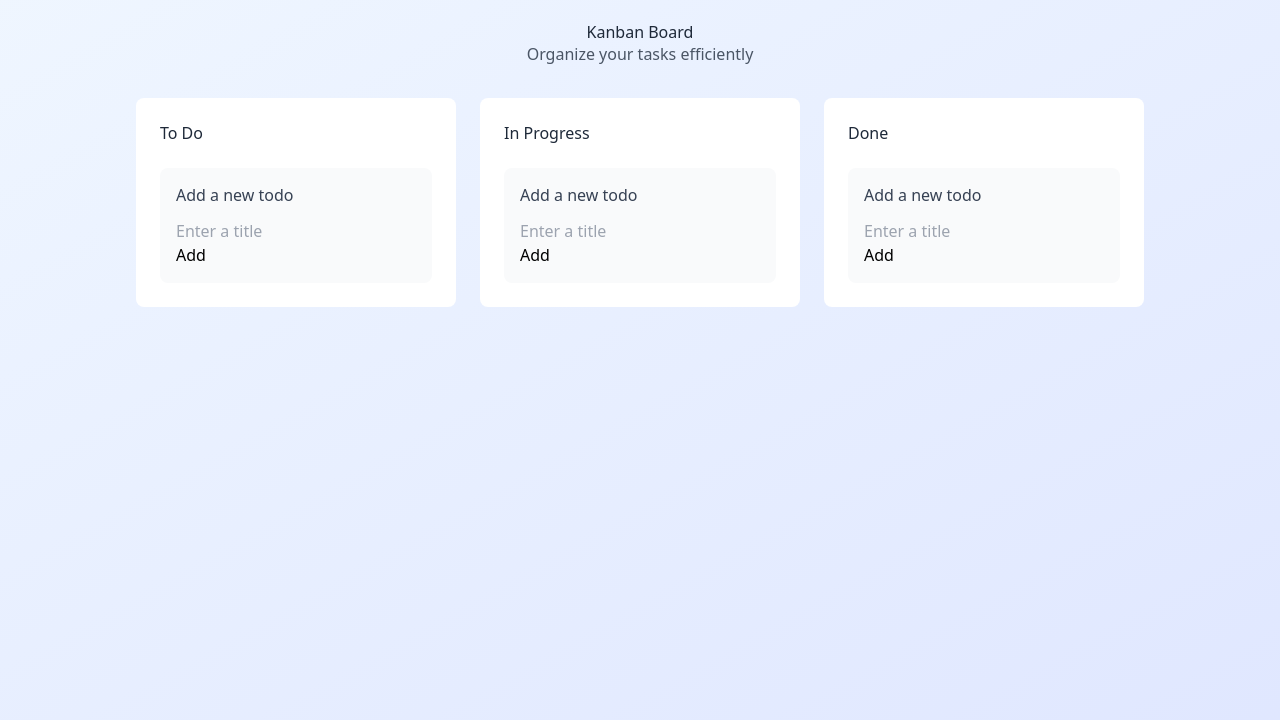
it: App › should delete a todo
The width and height of the screenshot is (1280, 720).
Type "Todo to Delete" into the field with placeholder "Enter a title" below "To Do" at point(296, 231), box [176,219,416,243]
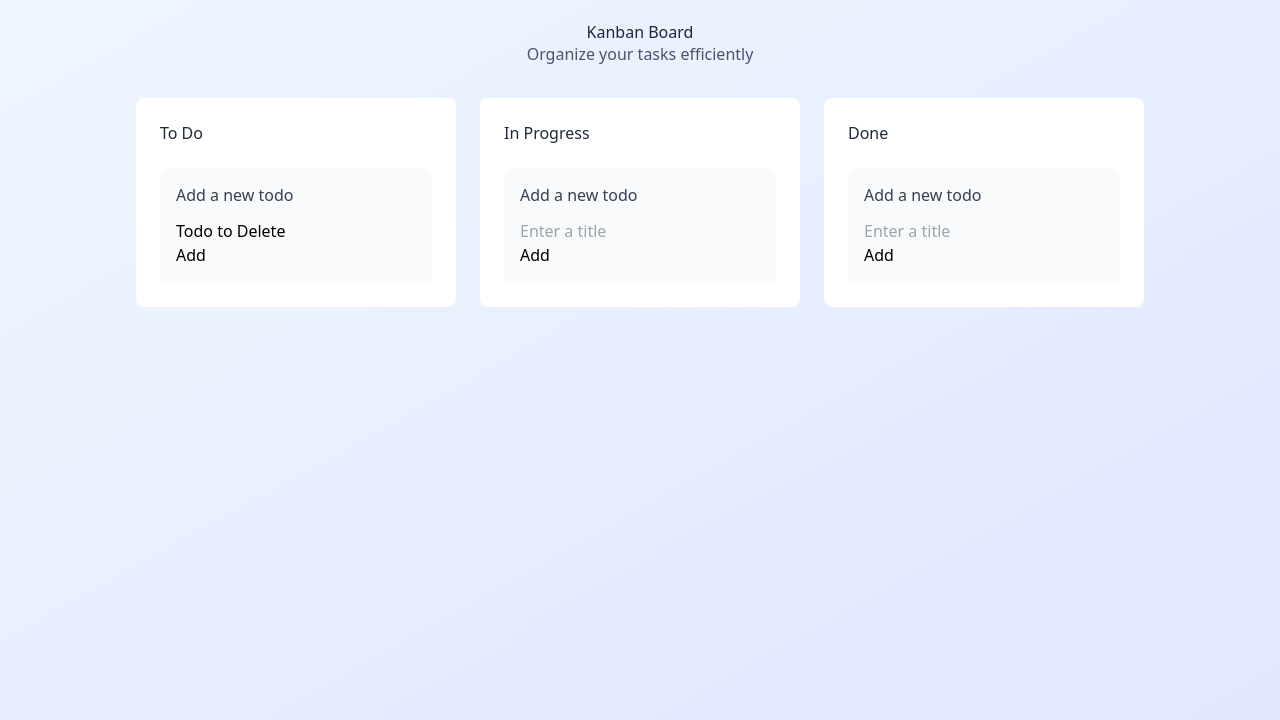
Click the button "Add" below "To Do" at point(191, 255), box [176,243,206,267]
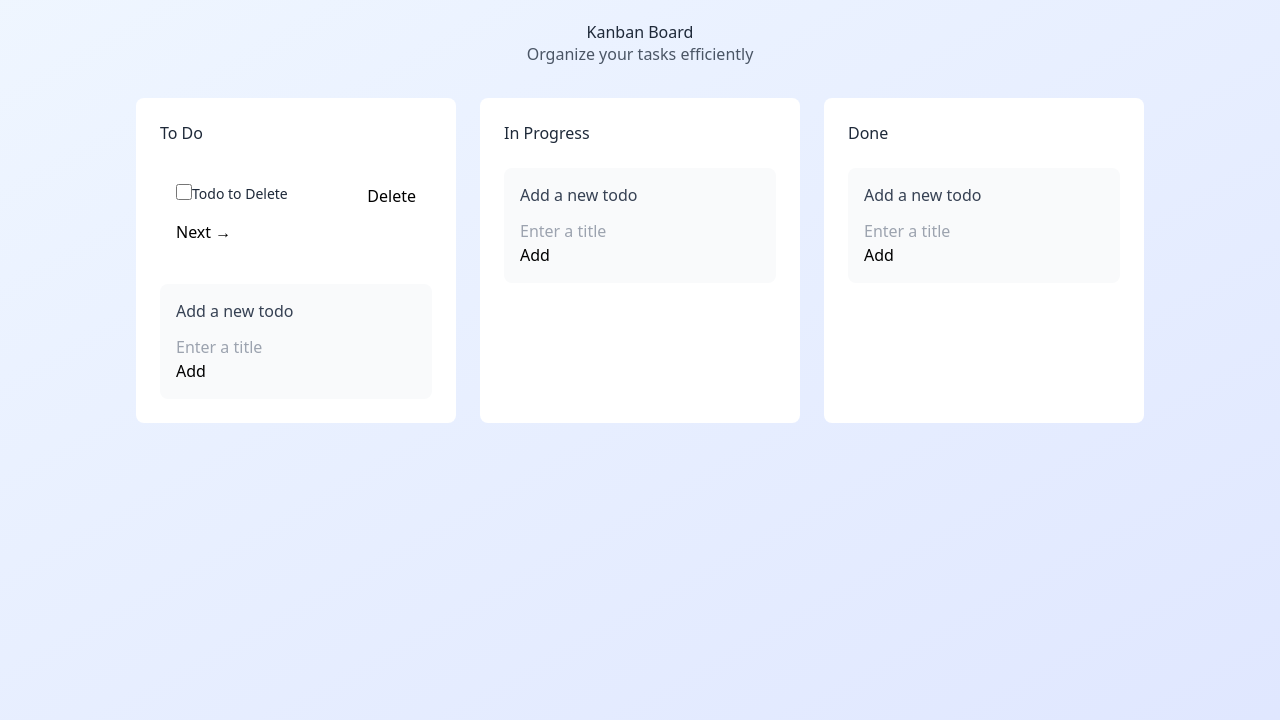
Now the text "Todo to Delete" is shown, box [192,184,288,203]
Note: Then delete it
Click the button "Delete" at point(392, 196), box [367,184,416,208]
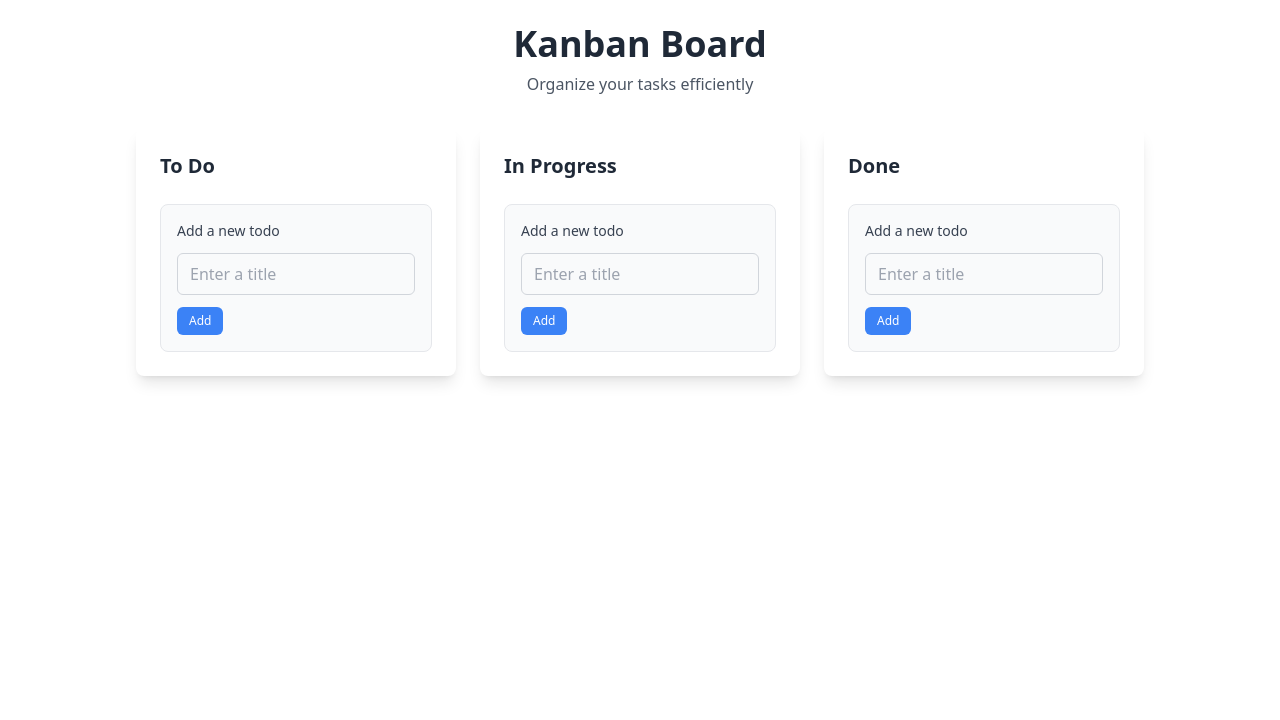
Now the text "Todo to Delete" is gone
